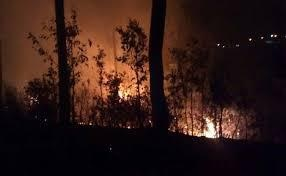fire: (181, 108, 239, 138), (116, 83, 133, 100)
